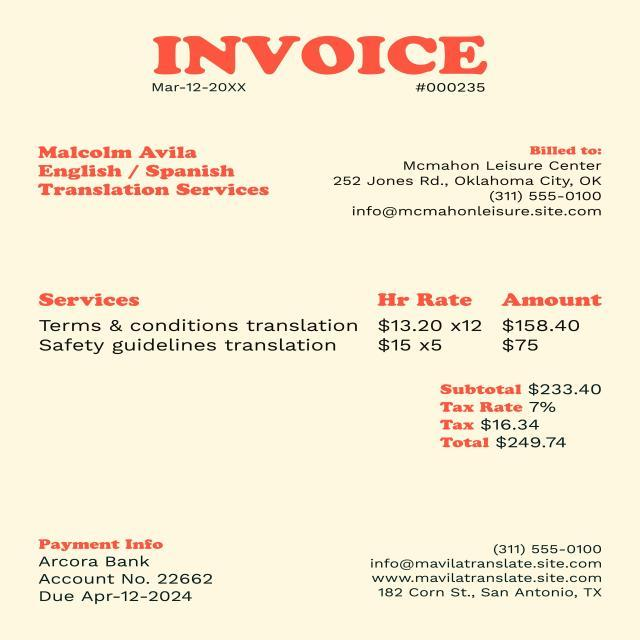ROI: (37, 279, 606, 362), (330, 125, 611, 226), (352, 540, 613, 607), (33, 140, 278, 209), (39, 530, 225, 607), (146, 33, 499, 73), (433, 379, 608, 457), (407, 77, 496, 97), (149, 83, 252, 95)
